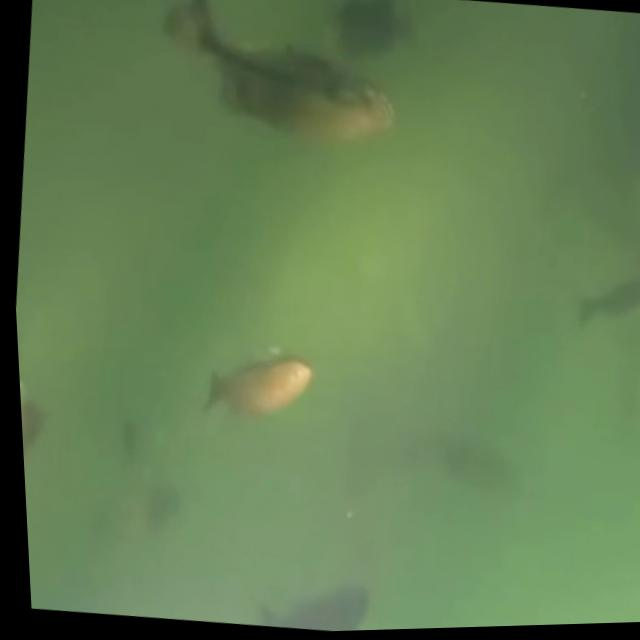fish: (147, 0, 417, 176), (178, 328, 320, 443), (390, 413, 525, 532), (541, 245, 640, 370), (241, 565, 381, 635), (14, 349, 73, 505)
